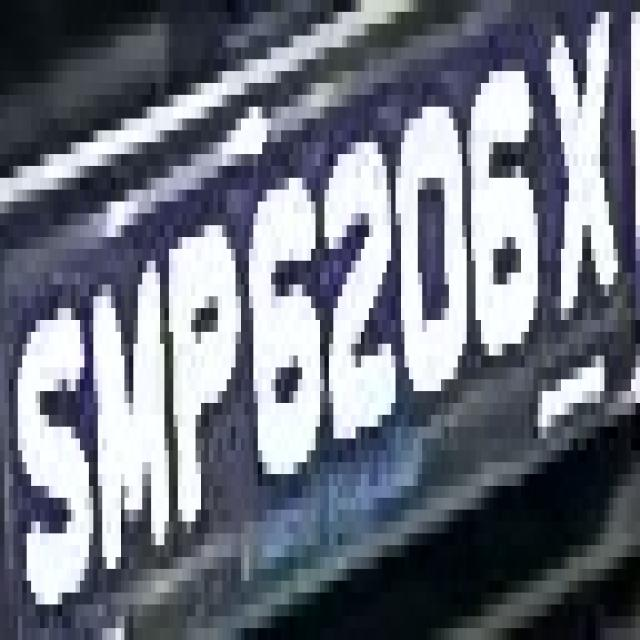0: (386, 59, 466, 403)
2: (320, 130, 404, 462)
6: (244, 130, 320, 498), (462, 48, 542, 380)
M: (75, 249, 169, 557)
P: (160, 202, 244, 545)
S: (18, 284, 93, 616)
X: (547, 0, 631, 320)
